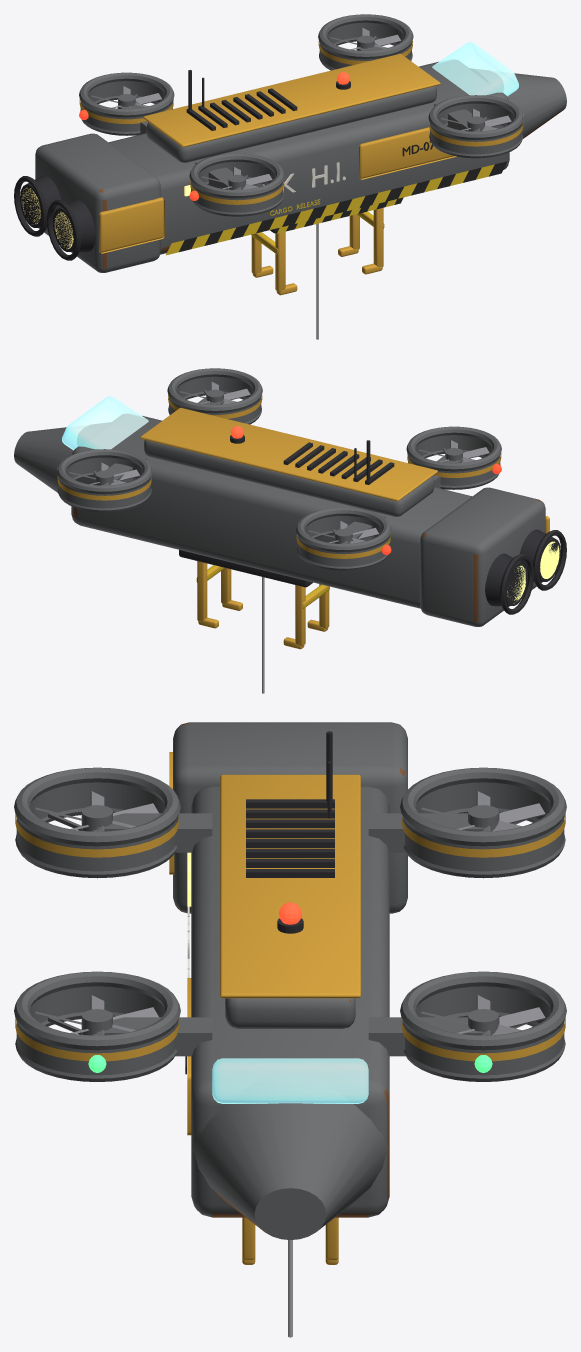
Rendered from dropship.glb.
3 views of the same model, one above another, from view 1: azimuth 30°, elevation 25°; view 2: azimuth 150°, elevation 25°; view 3: azimuth 270°, elevation 25° (orthographic). The views are drawn at different scales.
Parts seen in each view (by area): view 1: Hull, FanDucts, Panels, Nozzles, BellyStripes, Cockpit, Vents, FanBands, Clamp_B, Clamp_F, WinchStripes, ThrusterCores; view 2: Hull, FanDucts, Panels, Nozzles, Cockpit, Vents, FanBands, Clamp_B, Clamp_F, Winch, ThrusterCores; view 3: Hull, FanDucts, Panels, Vents, Cockpit, FanBands, Clamp_F, Fan_1, Fan_3, Fan_0, Fan_2.
Boxes of the visible parts, x1=… form: Hull: x1=35, y1=60, x2=566, y2=272; FanDucts: x1=79, y1=14, x2=523, y2=216; Panels: x1=99, y1=53, x2=456, y2=253; Nozzles: x1=14, y1=175, x2=95, y2=260; BellyStripes: x1=166, y1=161, x2=507, y2=255; Cockpit: x1=432, y1=42, x2=518, y2=96; Vents: x1=186, y1=70, x2=297, y2=130; FanBands: x1=79, y1=41, x2=523, y2=204; Clamp_B: x1=251, y1=231, x2=297, y2=295; Clamp_F: x1=338, y1=207, x2=384, y2=274; WinchStripes: x1=277, y1=197, x2=403, y2=233; ThrusterCores: x1=22, y1=188, x2=73, y2=248; Hull: x1=14, y1=414, x2=545, y2=626; FanDucts: x1=57, y1=368, x2=501, y2=570; Panels: x1=140, y1=407, x2=549, y2=533; Nozzles: x1=485, y1=529, x2=566, y2=614; Cockpit: x1=62, y1=396, x2=148, y2=450; Vents: x1=283, y1=440, x2=394, y2=484; FanBands: x1=57, y1=395, x2=501, y2=558; Clamp_B: x1=283, y1=584, x2=329, y2=649; Clamp_F: x1=196, y1=561, x2=242, y2=628; Winch: x1=179, y1=550, x2=312, y2=587; ThrusterCores: x1=507, y1=541, x2=559, y2=603; Hull: x1=173, y1=722, x2=407, y2=1239; FanDucts: x1=14, y1=767, x2=566, y2=1081; Panels: x1=169, y1=752, x2=360, y2=1135; Vents: x1=246, y1=731, x2=334, y2=877; Cockpit: x1=212, y1=1058, x2=368, y2=1103; FanBands: x1=15, y1=814, x2=565, y2=1061; Clamp_F: x1=242, y1=1217, x2=338, y2=1264; Fan_1: x1=421, y1=995, x2=545, y2=1035; Fan_3: x1=421, y1=791, x2=545, y2=831; Fan_0: x1=35, y1=995, x2=158, y2=1035; Fan_2: x1=35, y1=791, x2=158, y2=831.
Bounding box in the file's own units: 3.96 × 2.13 × 2.12.
